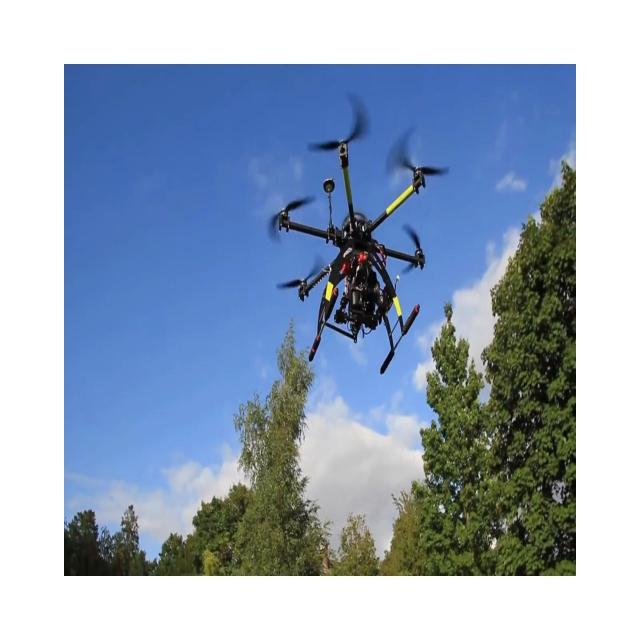drone: (271, 91, 449, 375)
